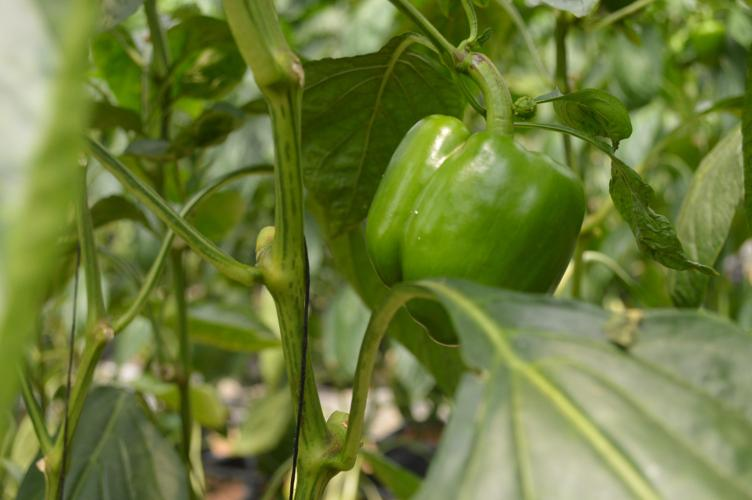BellPepper: (360, 118, 579, 347)
